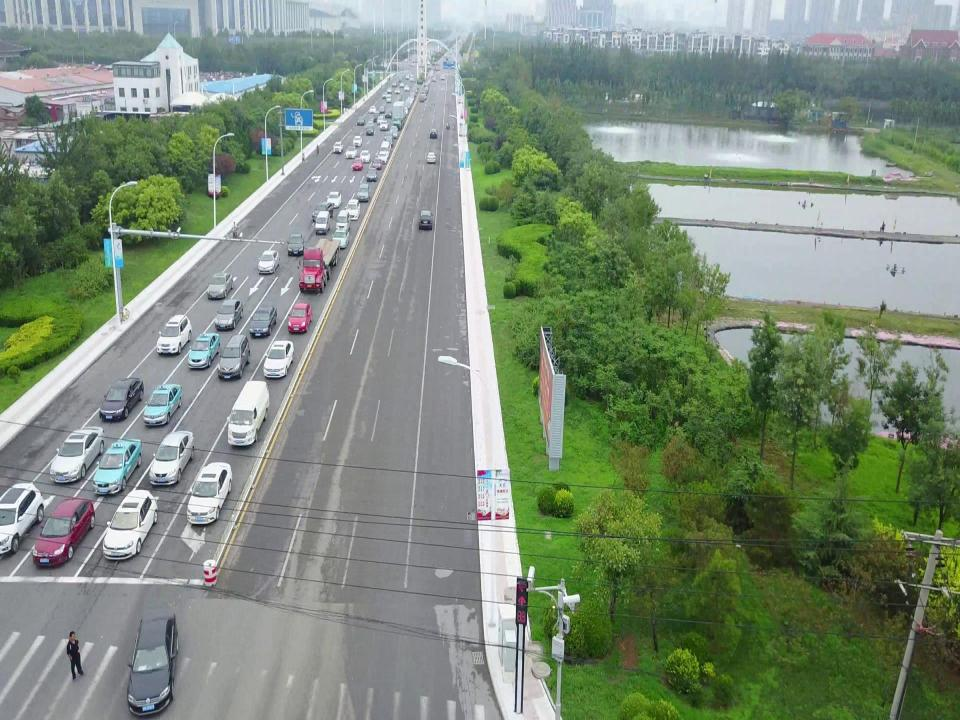car: (127, 613, 179, 715), (32, 498, 96, 566), (103, 490, 158, 559), (0, 481, 44, 555), (50, 428, 104, 483), (186, 462, 232, 526), (92, 439, 142, 494), (150, 431, 194, 485), (100, 379, 144, 421), (143, 383, 182, 426), (157, 315, 193, 354), (263, 339, 295, 378), (187, 332, 221, 368), (214, 300, 244, 330), (249, 306, 278, 335), (287, 303, 313, 332), (206, 272, 232, 299), (258, 250, 280, 274), (312, 202, 334, 222), (331, 227, 350, 250), (287, 234, 305, 256), (344, 198, 360, 221), (326, 192, 342, 208), (356, 184, 370, 202), (419, 211, 433, 229), (366, 167, 378, 182), (359, 149, 371, 163), (332, 141, 344, 154), (346, 146, 357, 159), (353, 158, 363, 171), (372, 157, 382, 169), (377, 151, 387, 163), (383, 136, 393, 147), (427, 152, 436, 163), (353, 136, 362, 146), (380, 120, 389, 130), (366, 126, 374, 136), (357, 115, 365, 124), (430, 128, 437, 138), (377, 116, 385, 124), (400, 107, 408, 115), (301, 150, 305, 164), (384, 110, 392, 117), (403, 102, 410, 109), (404, 99, 410, 107), (406, 98, 412, 106), (378, 106, 384, 113), (409, 91, 415, 98), (408, 95, 414, 101), (394, 88, 400, 94), (403, 86, 409, 92), (392, 80, 397, 87), (414, 86, 418, 93), (387, 86, 391, 93), (382, 92, 387, 97), (400, 81, 404, 87), (405, 73, 409, 79), (411, 91, 415, 96), (440, 75, 444, 80), (432, 77, 436, 81), (398, 77, 402, 81)
truck: (298, 236, 340, 296), (392, 101, 404, 130)
van: (228, 381, 269, 446), (218, 334, 252, 378), (315, 210, 331, 235), (334, 210, 350, 232), (381, 141, 391, 157), (390, 125, 398, 139), (366, 120, 374, 132), (385, 131, 393, 141), (374, 111, 380, 122), (386, 93, 392, 103), (370, 105, 376, 114), (419, 94, 425, 103), (421, 91, 427, 100), (422, 84, 428, 93), (409, 75, 413, 82)
